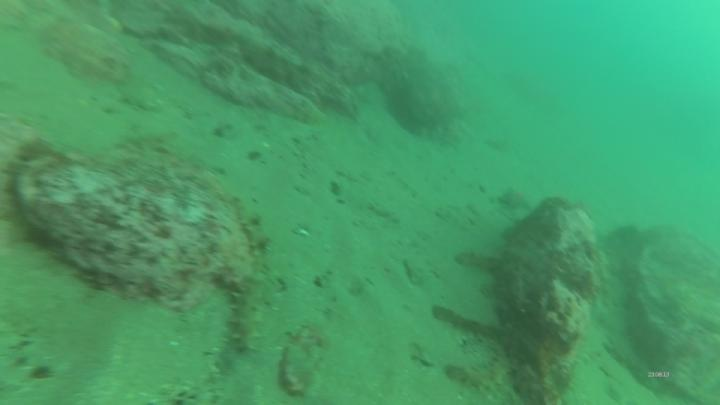holothurian: (229, 269, 280, 367), (443, 353, 520, 395), (236, 194, 270, 259)
starfish: (497, 184, 537, 215)
